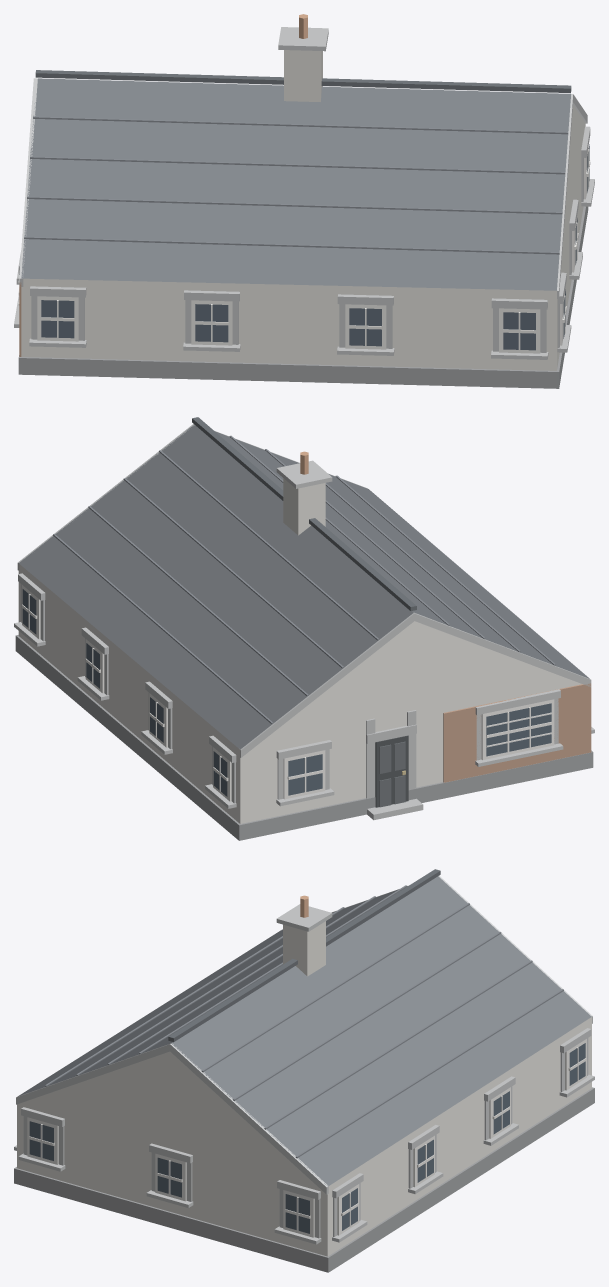
3 renders of one model, top to bottom at view 1: azimuth 30°, elevation 25°; view 2: azimuth 150°, elevation 25°; view 3: azimuth 270°, elevation 25°, orthographic. The views are drawn at different scales.
Parts seen in each view (by area): view 1: slate, harl, stone_band, plinth, slate_lt, frame, slate_dk, chim_render, window_glass_007, window_glass_008, window_glass_010, window_glass_009; view 2: slate, harl, stone_band, plinth, slate_lt, ss_red, frame, window_glass_002, slate_dk, chim_render, door_dark_p, door_dark (+1 smaller); view 3: slate, harl, stone_band, plinth, slate_lt, frame, slate_dk, chim_render, window_glass_012, window_glass_011, window_glass_013, window_glass_005.
Boxes of the visible parts, left/top/right/bottom form: slate: left=21, top=78, right=570, bottom=290; harl: left=21, top=105, right=585, bottom=370; stone_band: left=14, top=27, right=594, bottom=359; plinth: left=18, top=206, right=588, bottom=388; slate_lt: left=24, top=116, right=568, bottom=254; frame: left=18, top=146, right=590, bottom=353; slate_dk: left=35, top=70, right=571, bottom=93; chim_render: left=284, top=50, right=322, bottom=101; window_glass_007: left=41, top=300, right=74, bottom=338; window_glass_008: left=195, top=304, right=228, bottom=342; window_glass_010: left=503, top=312, right=535, bottom=350; window_glass_009: left=349, top=308, right=381, bottom=346; slate: left=19, top=424, right=589, bottom=749; harl: left=18, top=564, right=582, bottom=823; stone_band: left=14, top=424, right=594, bottom=820; plinth: left=15, top=635, right=593, bottom=840; slate_lt: left=53, top=435, right=555, bottom=724; ss_red: left=443, top=683, right=591, bottom=782; frame: left=22, top=585, right=554, bottom=801; window_glass_002: left=486, top=703, right=551, bottom=756; slate_dk: left=192, top=417, right=416, bottom=610; chim_render: left=283, top=478, right=325, bottom=535; door_dark_p: left=379, top=741, right=405, bottom=807; door_dark: left=375, top=735, right=408, bottom=807; slate: left=18, top=876, right=591, bottom=1186; harl: left=17, top=1017, right=591, bottom=1256; stone_band: left=14, top=875, right=594, bottom=1244; plinth: left=14, top=1087, right=594, bottom=1272; slate_lt: left=45, top=885, right=563, bottom=1158; frame: left=27, top=1039, right=586, bottom=1237; slate_dk: left=168, top=869, right=440, bottom=1042; chim_render: left=283, top=921, right=325, bottom=976; window_glass_012: left=157, top=1157, right=181, bottom=1197; window_glass_011: left=29, top=1121, right=53, bottom=1160; window_glass_013: left=285, top=1194, right=309, bottom=1233; window_glass_005: left=493, top=1091, right=509, bottom=1134.
Bounding box in the file's own units: 16.74 × 7.4 × 15.85.
